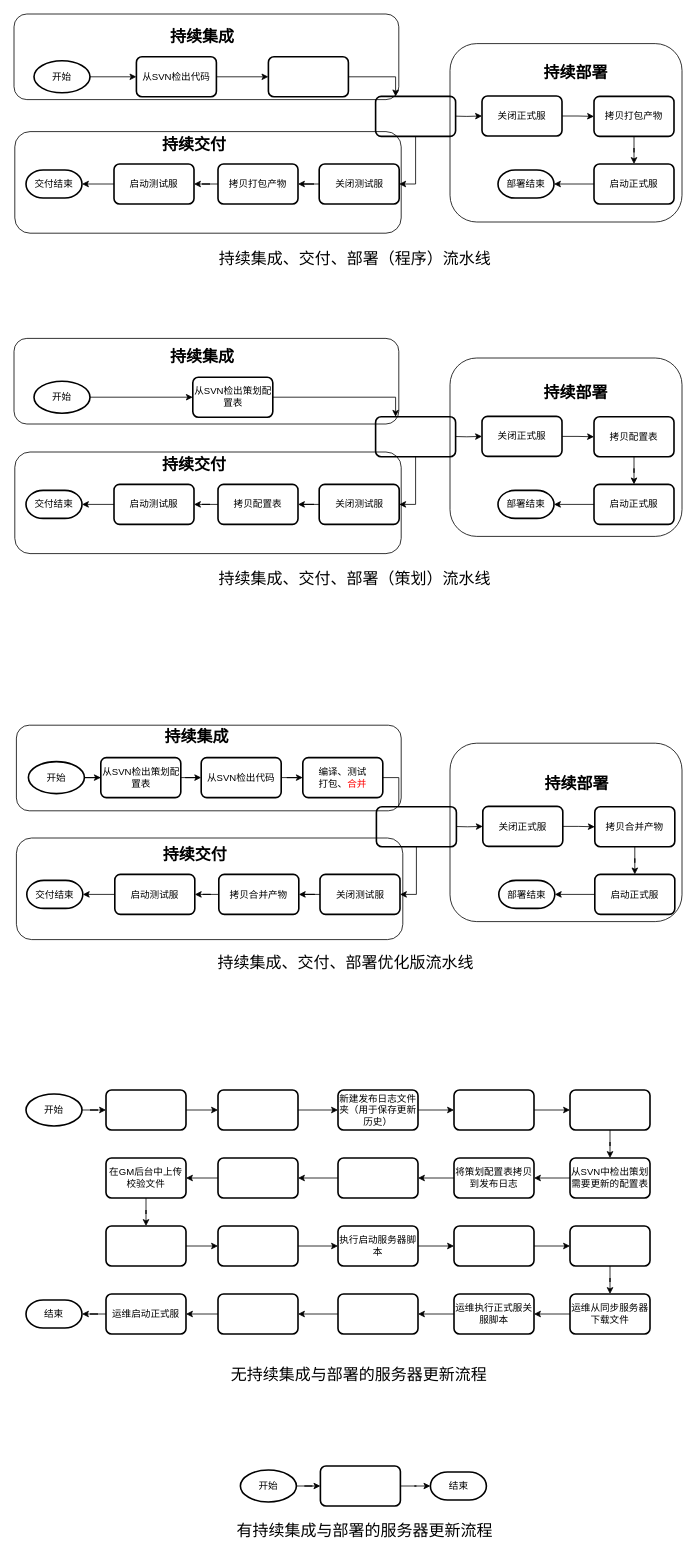
This 696x1556 diagram has some shape labels left out. The shapes that lost their labels are listed below. From the top down, each one's centre as x and y in pixels, then its label:
At [308,76]: "编译 测试 打包".
At [415,116]: "备份打包产物 生成版本号".
At [415,436]: "备份配置表 生成版本号".
At [416,826]: "备份合并产物 生成版本号".
At [145,1109]: "使用IDE编译代码".
At [257,1109]: "使用压缩软件将编译后的class 文件打zip包".
At [493,1109]: "将生成的zip包拷贝到发布日志".
At [609,1109]: "将代码配置拷贝到发布日志".
At [257,1177]: "登陆GM后台".
At [377,1177]: "生成更新内容校验文件".
At [145,1245]: "进入测试服输入停止服务器命令".
At [257,1245]: "使用FPT工具将发布日志上传至测试服".
At [493,1245]: "将发布日志中的文件上传至同步服".
At [609,1245]: "告知运维本次更新内容".
At [257,1313]: "运维执行更新服务器脚本".
At [377,1313]: "运维执行备份数据脚本".
At [360,1485]: "在Jenkins中点击更新".
